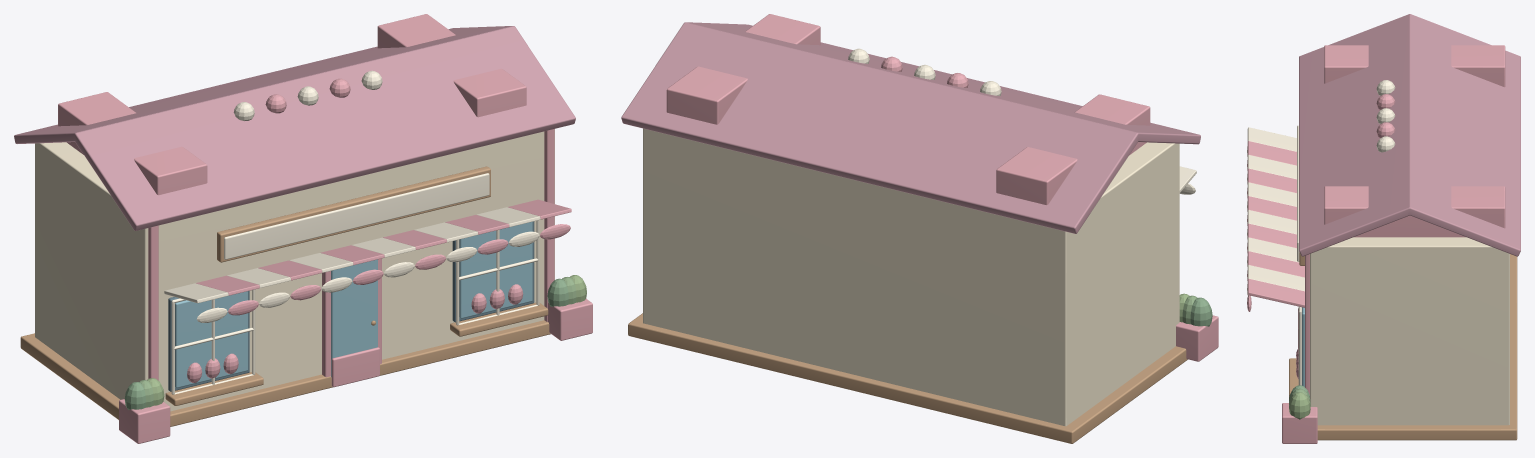
Rendered from shop-peachy.glb.
3 views of the same model, side by side, from view 1: azimuth 30°, elevation 25°; view 2: azimuth 150°, elevation 25°; view 3: azimuth 270°, elevation 25° (orthographic). The views are drawn at different scales.
Parts seen in each view (by area): view 1: Shop plaster, Pitched tiled roof.001, Shop foundation, Shop sign face, Pitched tiled roof, Window pane, Playroom raised corner, Window pane.001, Playroom raised corner.001, Glass door, Shop sign frame, Window planter (+21 smaller); view 2: Shop plaster, Pitched tiled roof, Shop foundation, Pitched tiled roof.001, Playroom raised corner, Playroom raised corner.001, Window planter; view 3: Shop plaster, Pitched tiled roof, Pitched tiled roof.001, Shop foundation, Playroom raised corner.001, Playroom raised corner, Window planter.001, Striped fabric awning.011, Striped fabric awning.010, Striped fabric awning.009, Striped fabric awning.008, Striped fabric awning (+11 smaller).
Part boxes in pixels (box(x1,y1,x2,y2)): Shop plaster: box(35, 129, 554, 411); Pitched tiled roof.001: box(74, 26, 575, 230); Shop foundation: box(20, 320, 550, 426); Shop sign face: box(224, 173, 489, 259); Pitched tiled roof: box(14, 26, 513, 143); Window pane: box(175, 291, 247, 387); Playroom raised corner: box(58, 92, 207, 195); Window pane.001: box(459, 221, 532, 318); Playroom raised corner.001: box(377, 14, 526, 117); Glass door: box(331, 259, 377, 377); Shop sign frame: box(217, 166, 490, 262); Window planter: box(119, 399, 170, 443); Shop plaster: box(643, 128, 1179, 426); Pitched tiled roof: box(621, 22, 1139, 233); Shop foundation: box(628, 313, 1187, 443); Pitched tiled roof.001: box(685, 22, 1200, 144); Playroom raised corner: box(996, 94, 1150, 204); Playroom raised corner.001: box(666, 14, 820, 124); Window planter: box(1176, 315, 1218, 361); Shop plaster: box(1310, 237, 1509, 425); Pitched tiled roof: box(1408, 14, 1520, 256); Pitched tiled roof.001: box(1299, 14, 1411, 256); Shop foundation: box(1317, 254, 1517, 440); Playroom raised corner.001: box(1324, 186, 1505, 237); Playroom raised corner: box(1324, 45, 1505, 87); Window planter.001: box(1282, 403, 1317, 443); Striped fabric awning.011: box(1247, 278, 1304, 307); Striped fabric awning.010: box(1247, 265, 1304, 291); Striped fabric awning.009: box(1247, 251, 1304, 277); Striped fabric awning.008: box(1247, 237, 1299, 262); Striped fabric awning: box(1247, 127, 1296, 151).
Bounding box in the file's own units: 10.06 × 5.48 × 5.75.
